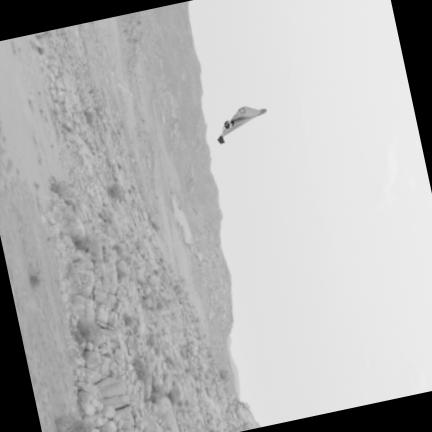Shahed: (218, 107, 266, 143)
